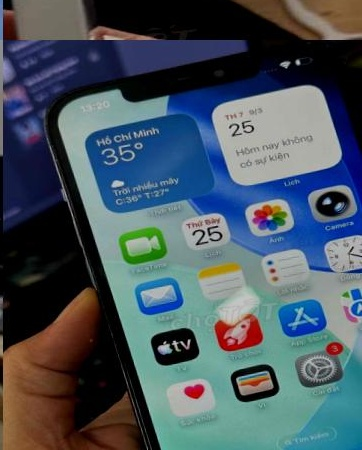scratch: (285, 40, 362, 117), (38, 104, 89, 185)
